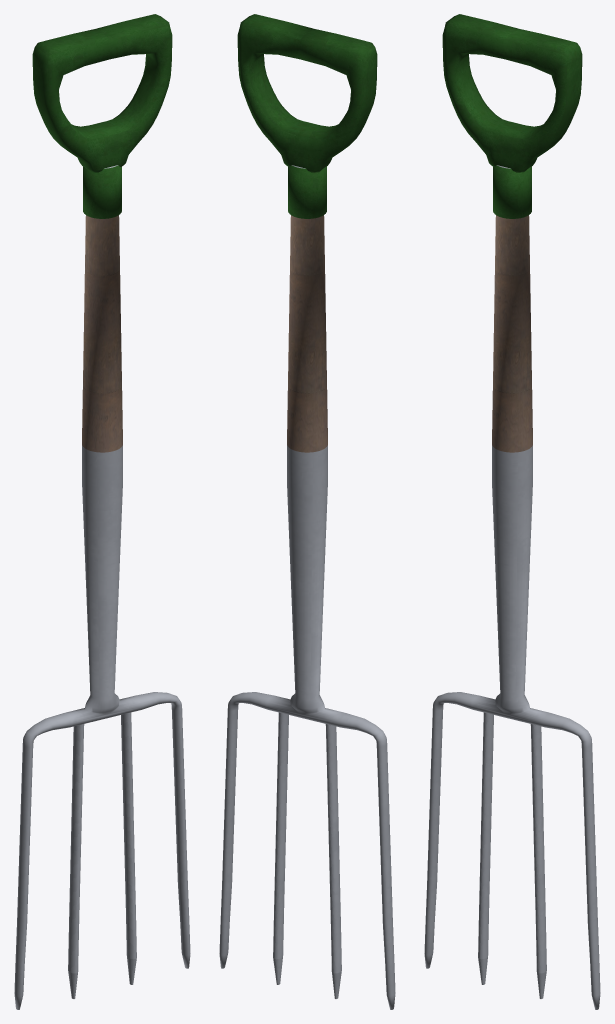
The model's file is garden_fork.glb.
The picture shows the model from 3 angles, left to right: view 1: azimuth 30°, elevation 25°; view 2: azimuth 150°, elevation 25°; view 3: azimuth 330°, elevation 25°; orthographic projection.
Parts seen in each view (by area): view 1: Garden Fork_0; view 2: Garden Fork_0; view 3: Garden Fork_0.
Part boxes in pixels (x1,y1,x2,y2): Garden Fork_0: [14, 14, 190, 1009]; Garden Fork_0: [219, 14, 395, 1009]; Garden Fork_0: [424, 14, 600, 1009].
Size of the model in its own units: 1.88 by 9.9 by 0.3855.
Materials: 3 (3 with a texture image).
